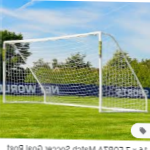goals: (2, 30, 150, 113)
